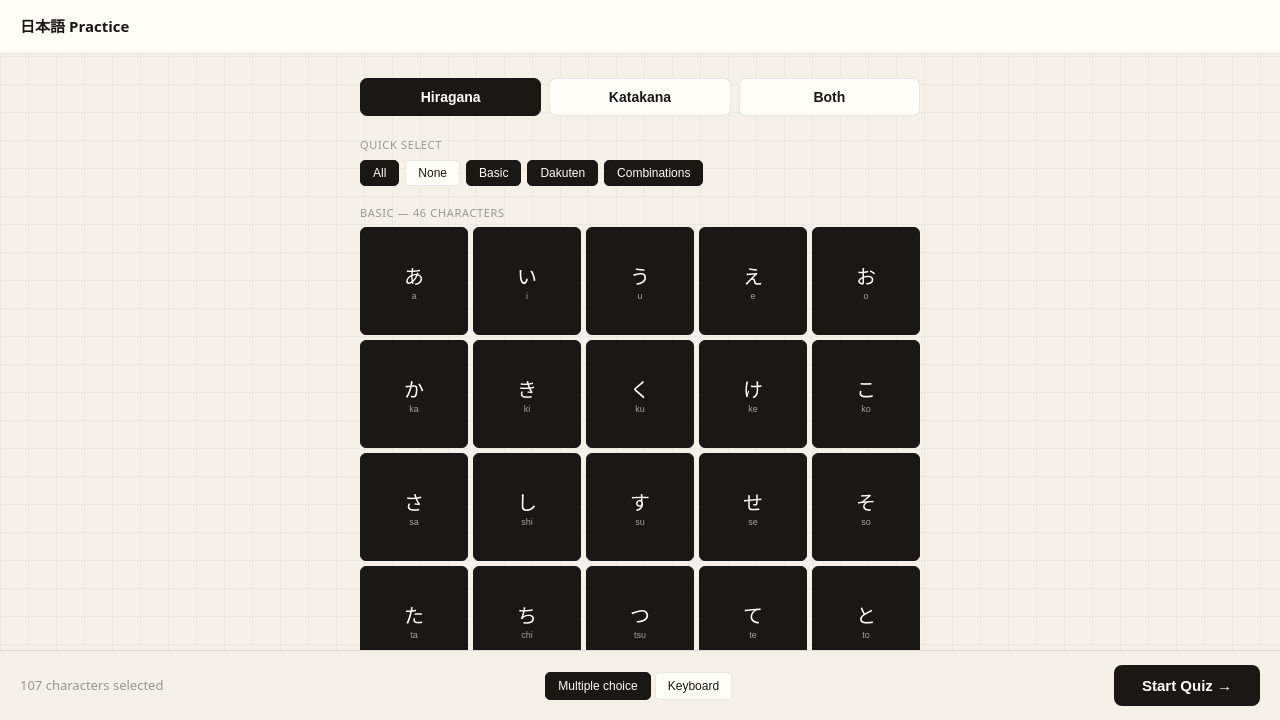
Test: KanaQuiz › shows text input after starting in keyboard mode
Click the button "Keyboard". click: (693, 686)
box: [655,672,732,700]
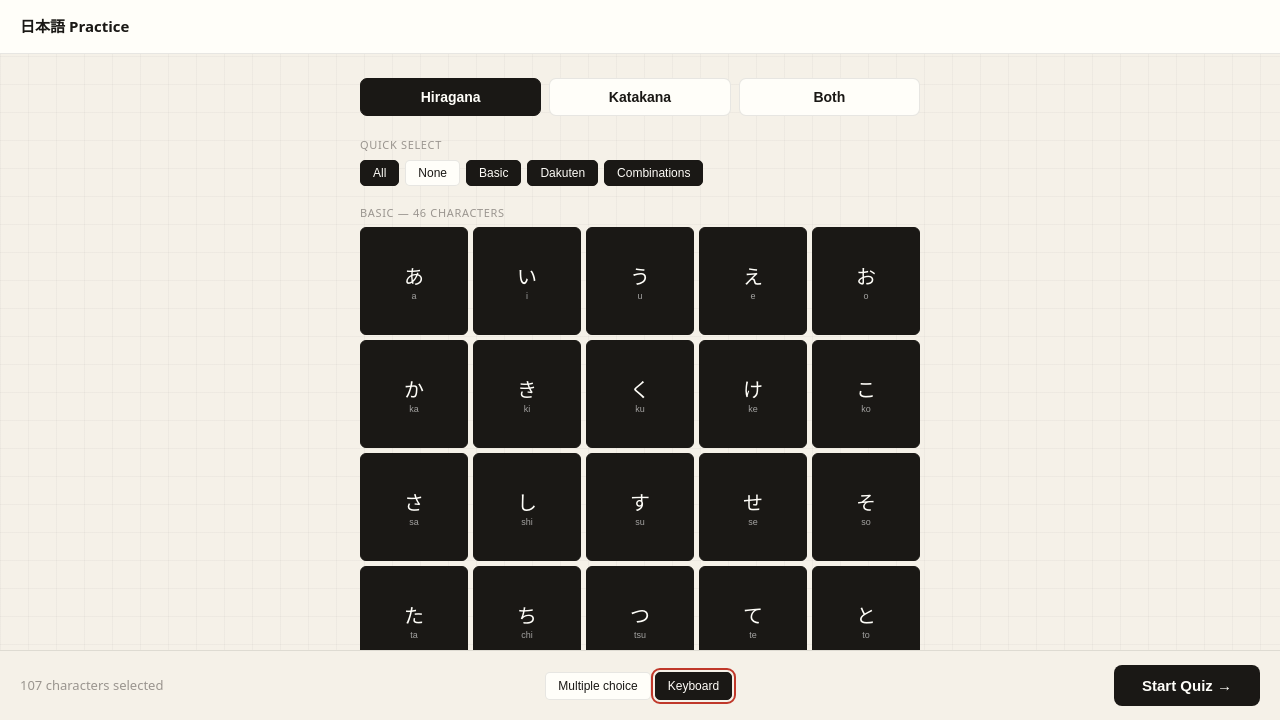
# Select only 1 character so quiz starts with a known card
Click the button "None". click: (433, 173)
box: [405,160,460,186]
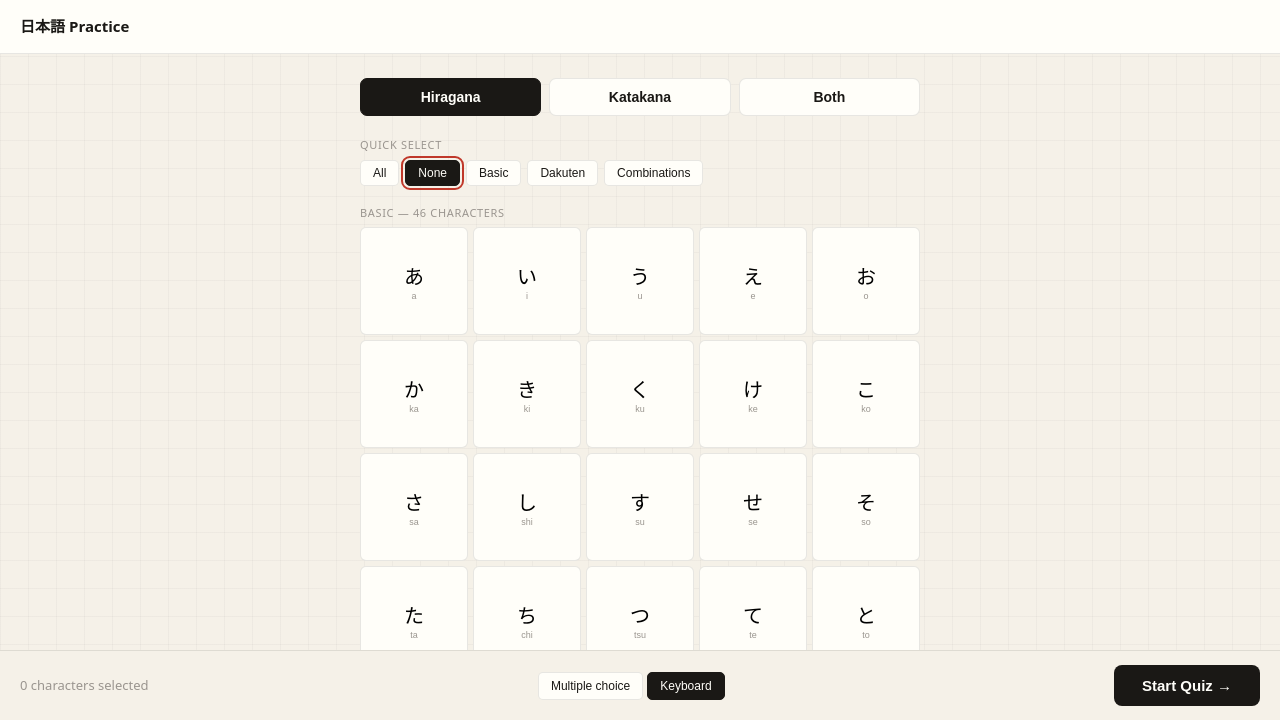
Click the button with class "kana-cell" showing "あ a". click: (414, 281)
box: [360,227,468,335]
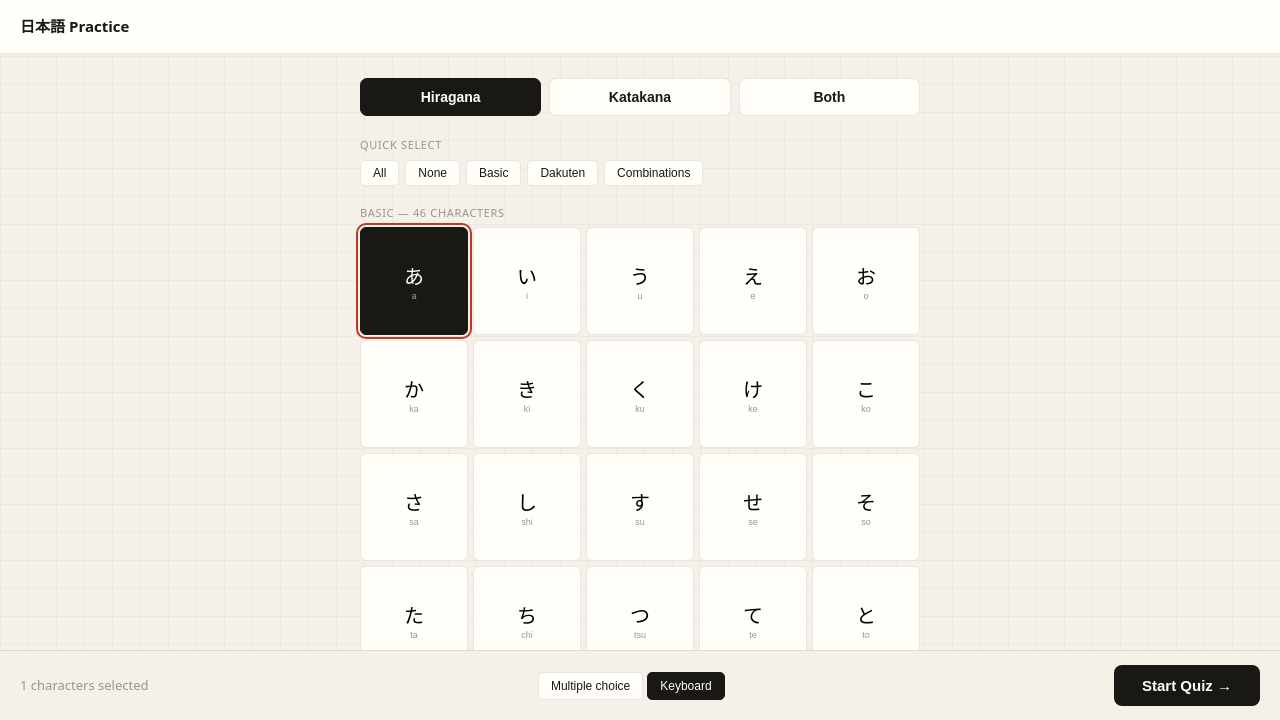
Click the button "Start Quiz →". click: (1187, 686)
box: [1114,665,1260,706]
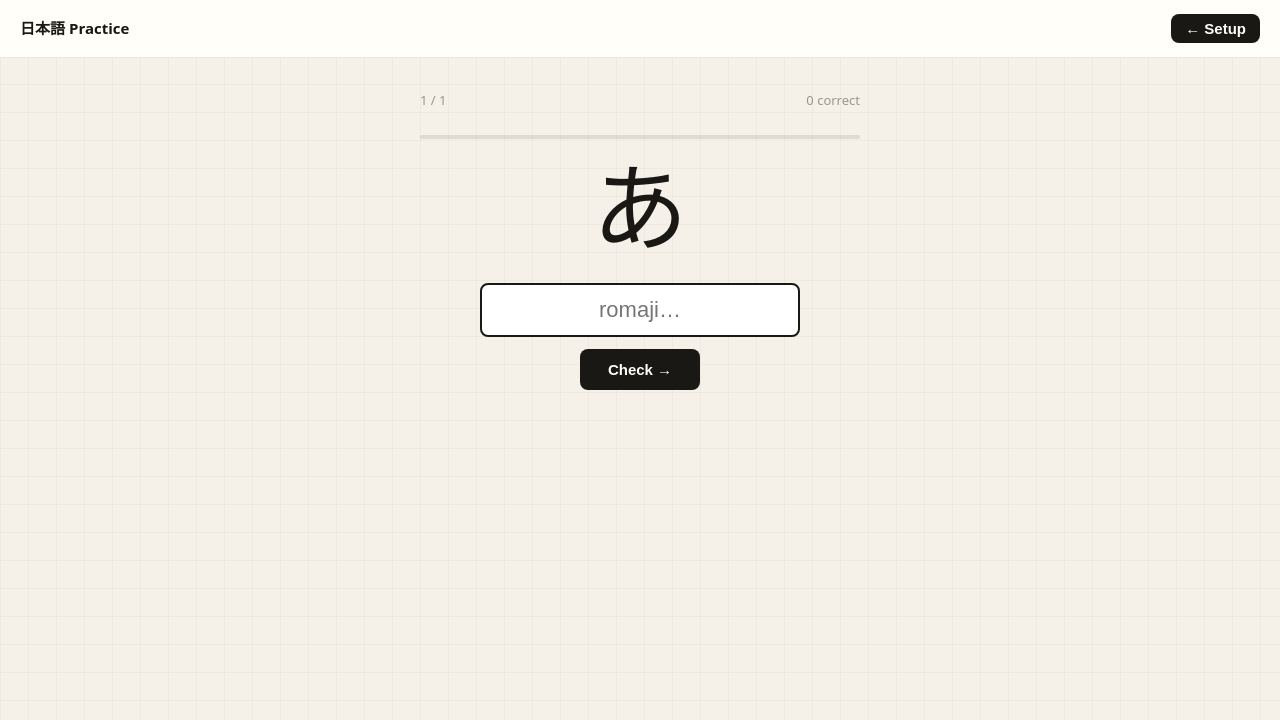
Expected: the field with placeholder "romaji…" is shown, [480,283,800,337]
